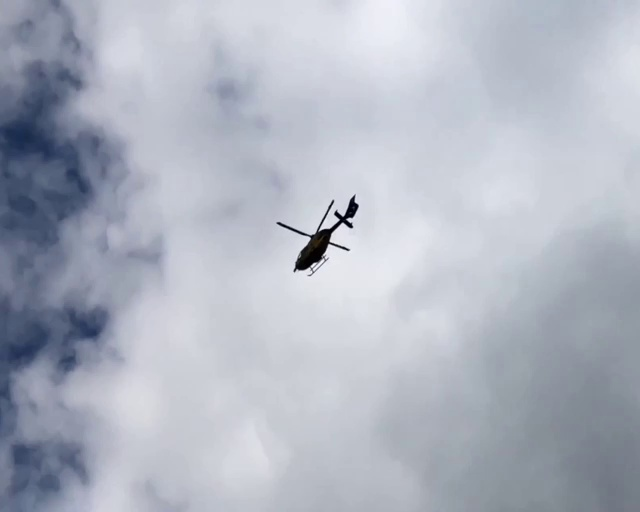HELICOPTER: (276, 195, 360, 277)
